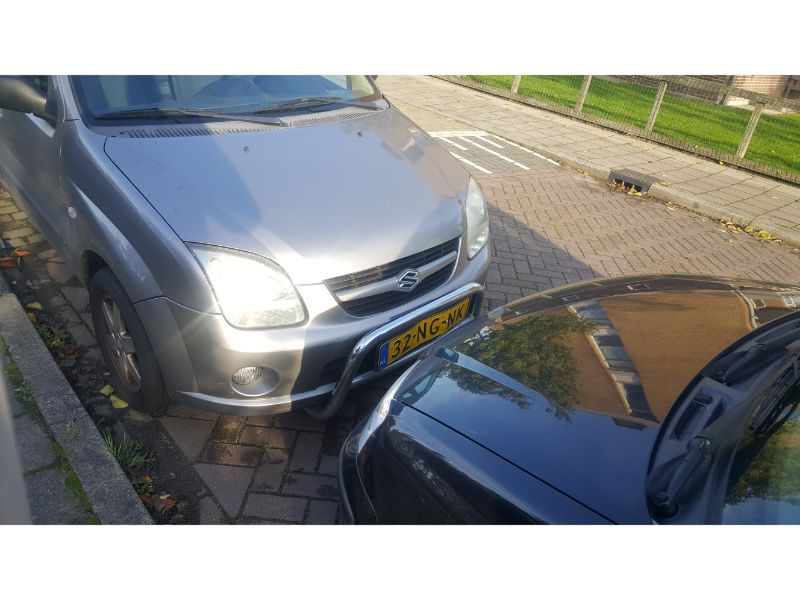kenteken: (378, 291, 470, 370)
